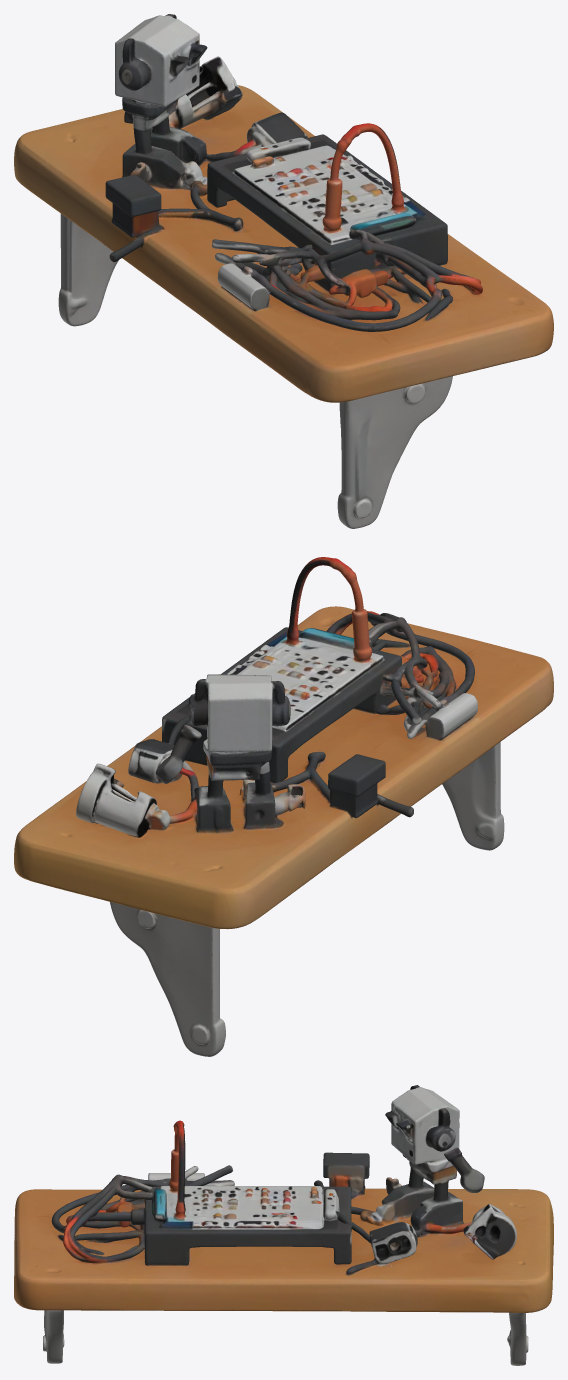
The model's file is shelf.glb.
3 views of the same model, one above another, from view 1: azimuth 30°, elevation 25°; view 2: azimuth 150°, elevation 25°; view 3: azimuth 270°, elevation 25° (orthographic). The views are drawn at different scales.
Visible parts, largest first — view 1: tripo_node_6f0b6975-1844-4fcb-9554-e33d74fbb822; view 2: tripo_node_6f0b6975-1844-4fcb-9554-e33d74fbb822; view 3: tripo_node_6f0b6975-1844-4fcb-9554-e33d74fbb822.
Part boxes in pixels (x1=…): tripo_node_6f0b6975-1844-4fcb-9554-e33d74fbb822: x1=14, y1=14, x2=553, y2=528; tripo_node_6f0b6975-1844-4fcb-9554-e33d74fbb822: x1=14, y1=557, x2=553, y2=1056; tripo_node_6f0b6975-1844-4fcb-9554-e33d74fbb822: x1=14, y1=1085, x2=553, y2=1365.
Bounding box in the file's own units: 0.4815 × 0.5581 × 1.
Materials: 1 (1 with a texture image).
